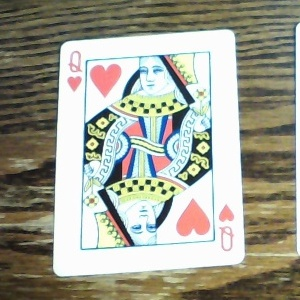card: (54, 27, 246, 273)
